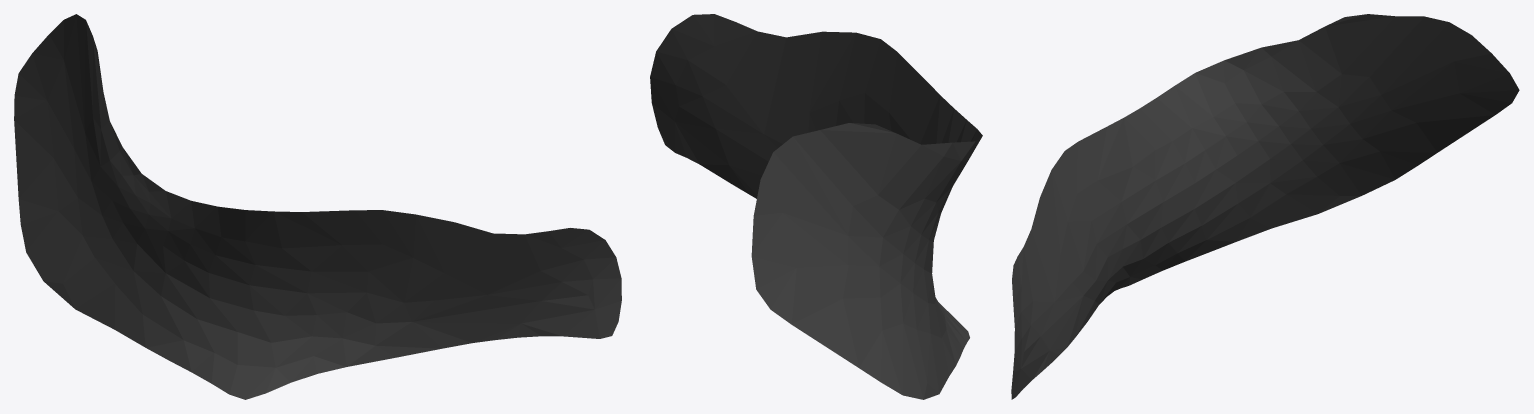
The model's file is Humerus_intertubercular_groove.glb.
The picture shows the model from 3 angles, left to right: view 1: azimuth 30°, elevation 25°; view 2: azimuth 150°, elevation 25°; view 3: azimuth 270°, elevation 25°; orthographic projection. The views are drawn at different scales.
Visible parts, largest first — view 1: Humerus_intertubercular_groove; view 2: Humerus_intertubercular_groove; view 3: Humerus_intertubercular_groove.
Boxes of the visible parts, x1,y1,x2,y2 form: Humerus_intertubercular_groove: (14,14,621,399); Humerus_intertubercular_groove: (650,14,982,399); Humerus_intertubercular_groove: (1011,14,1519,399).
Bounding box in the file's own units: 0.257 × 0.1664 × 0.2888.
1 material, 1 textured.
